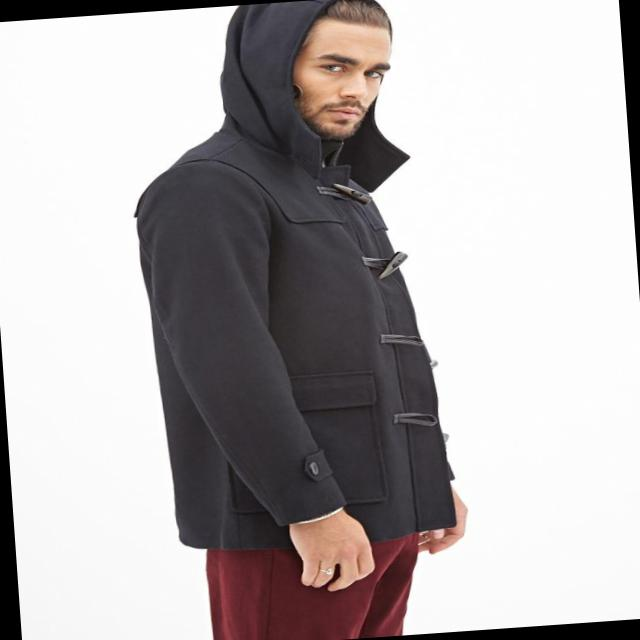Jacket: (128, 128, 474, 564)
